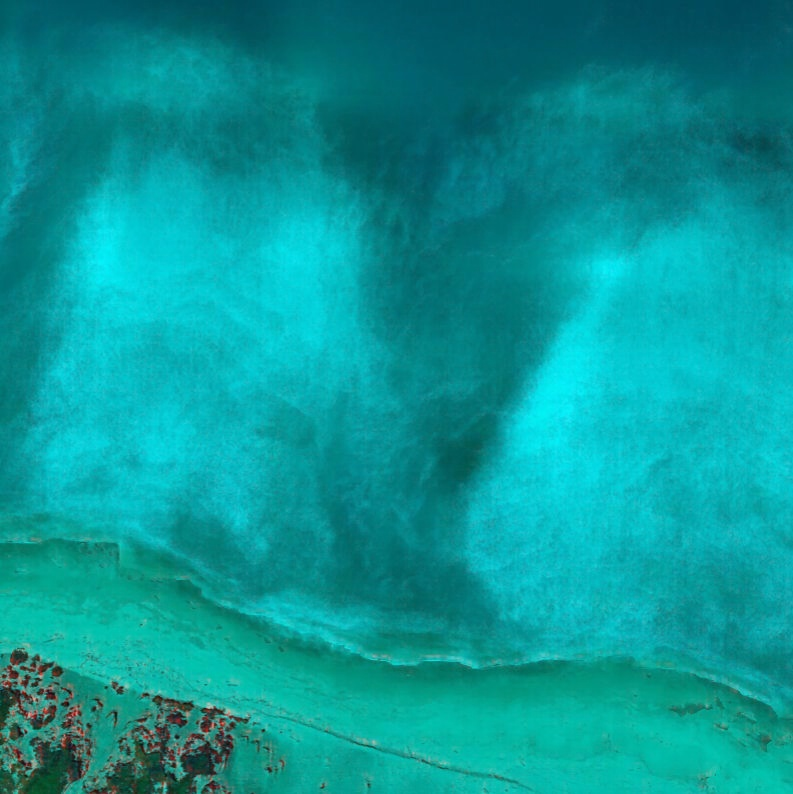rip_current: (243, 146, 592, 618)
